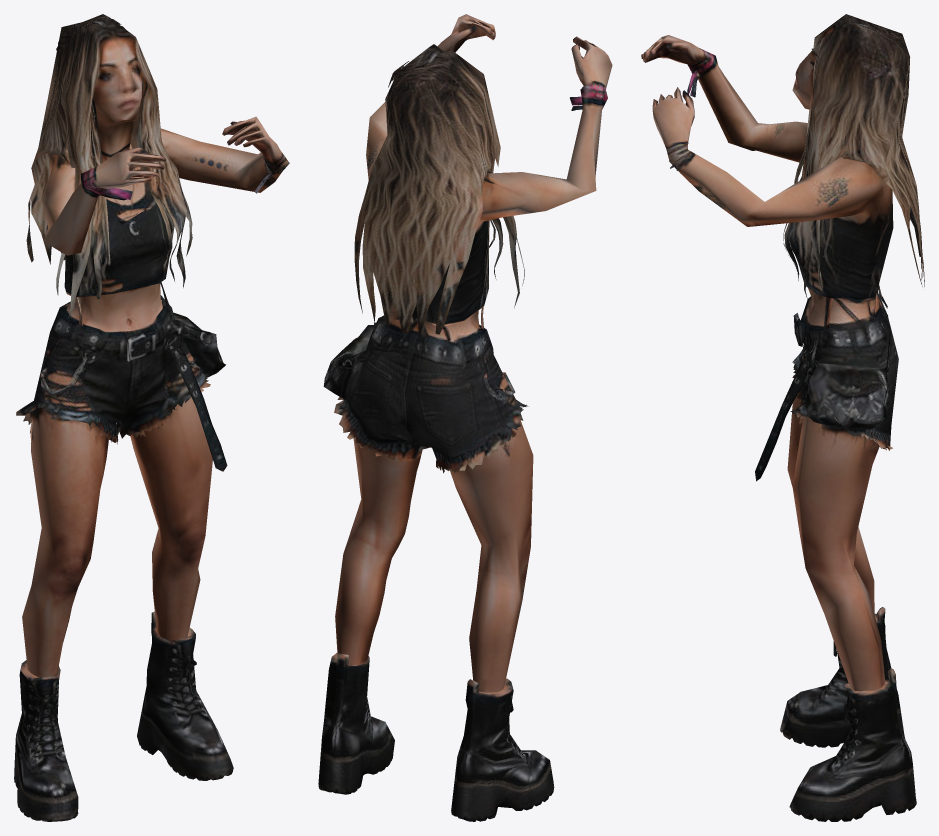
File: Female_Fan_04_LOD2_Static_clap_512.glb
3 renders of one model, left to right at view 1: azimuth 30°, elevation 25°; view 2: azimuth 150°, elevation 25°; view 3: azimuth 270°, elevation 25°, orthographic. The views are drawn at different scales.
Visible parts, largest first — view 1: female_fan_04_static_clap_uvfixed; view 2: female_fan_04_static_clap_uvfixed; view 3: female_fan_04_static_clap_uvfixed.
Boxes of the visible parts, x1,y1,x2,y2 form: female_fan_04_static_clap_uvfixed: (14,14,289,821); female_fan_04_static_clap_uvfixed: (318,14,612,821); female_fan_04_static_clap_uvfixed: (641,14,924,821).
Bounding box in the file's own units: 0.3109 × 0.9933 × 0.3399.
Materials: 1 (1 with a texture image).
